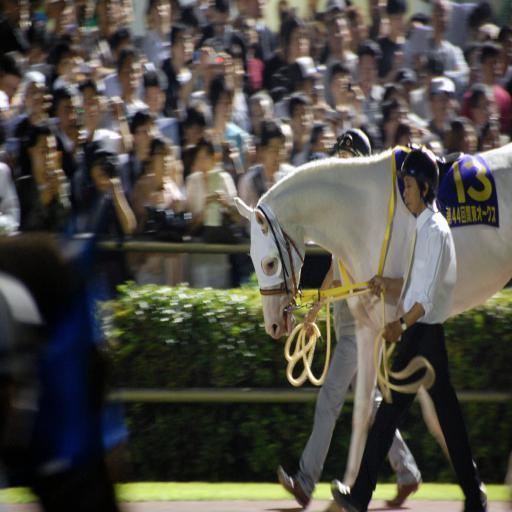horse: (232, 147, 512, 486)
